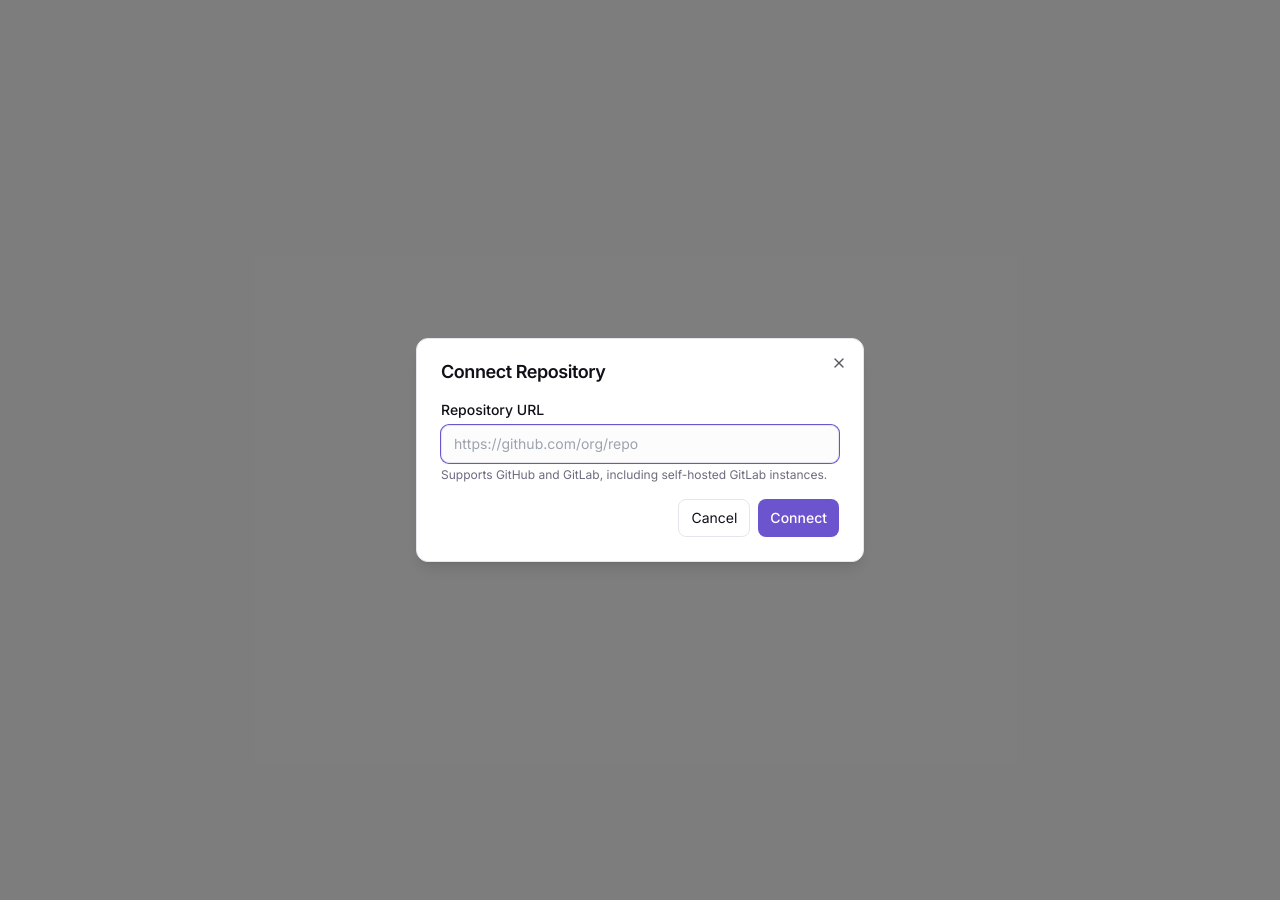
Test case: AttachRepoDialog › shows token step when auth is required
This screenshot has width=1280, height=900.
Type "https://github.com/org/private" into the field labelled "Repository URL" at (640,444), box [441,425,839,463]
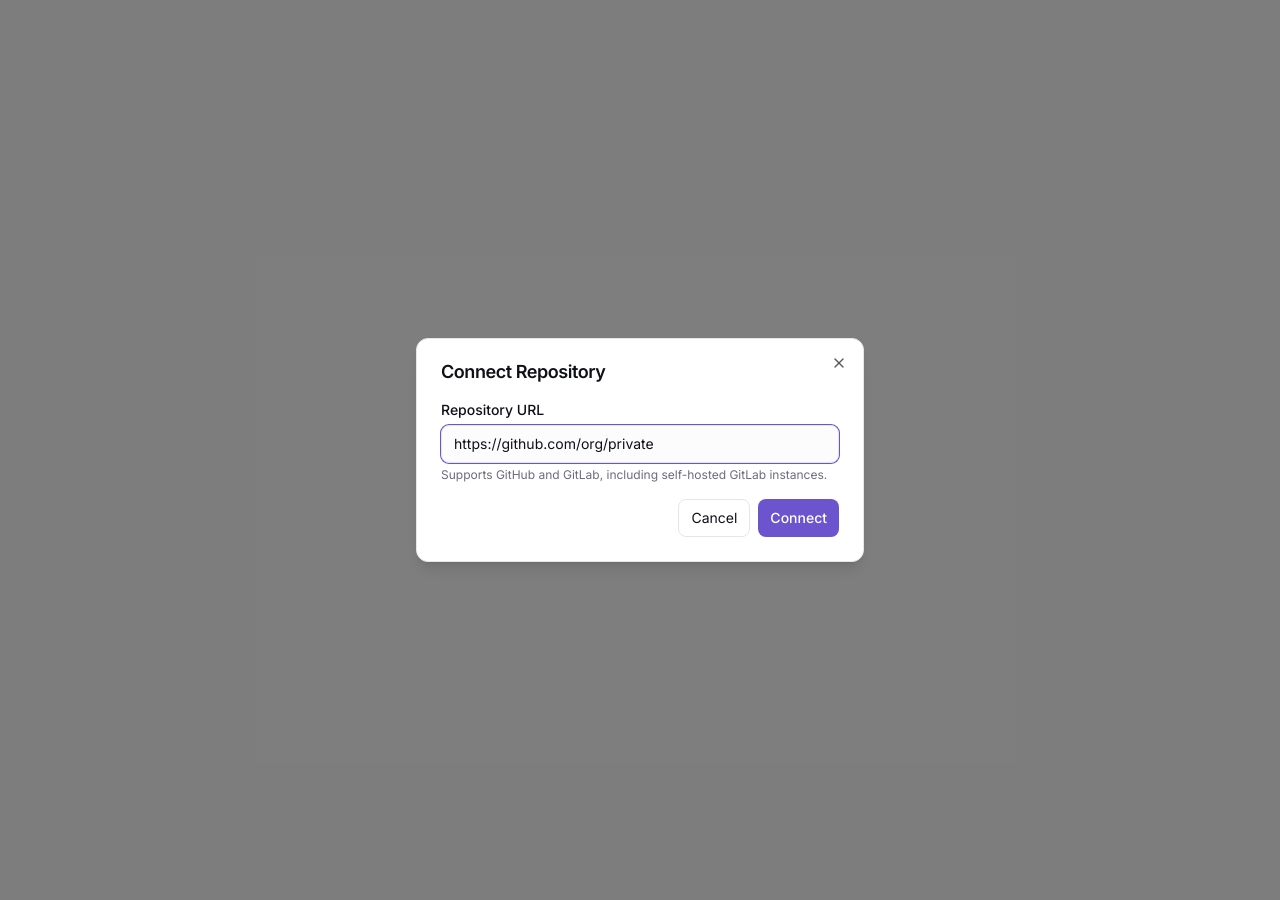
Click the button "Connect" at (799,518), box [758,499,839,537]
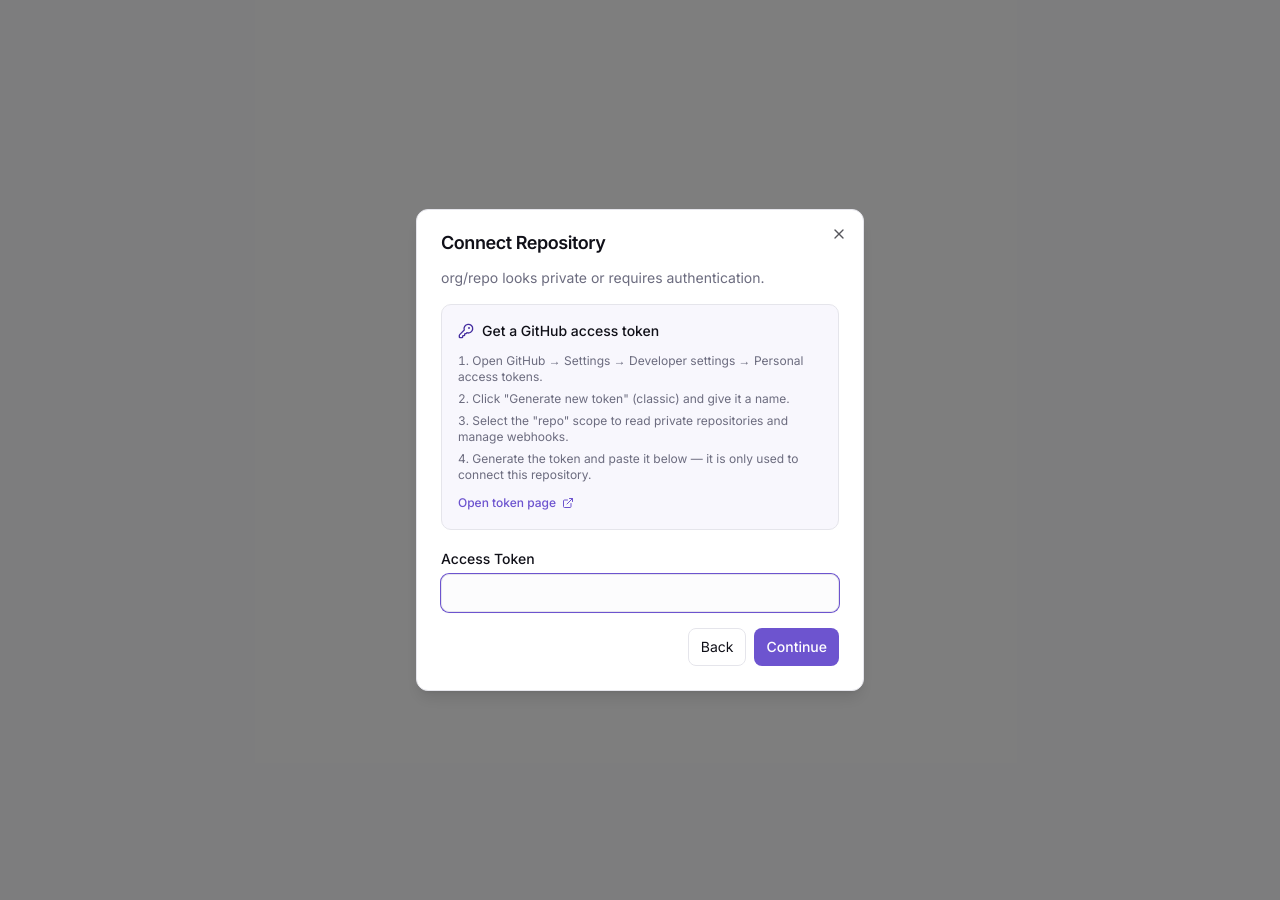
Check: the password field labelled "Access Token" is shown, box [441,574,839,612]
